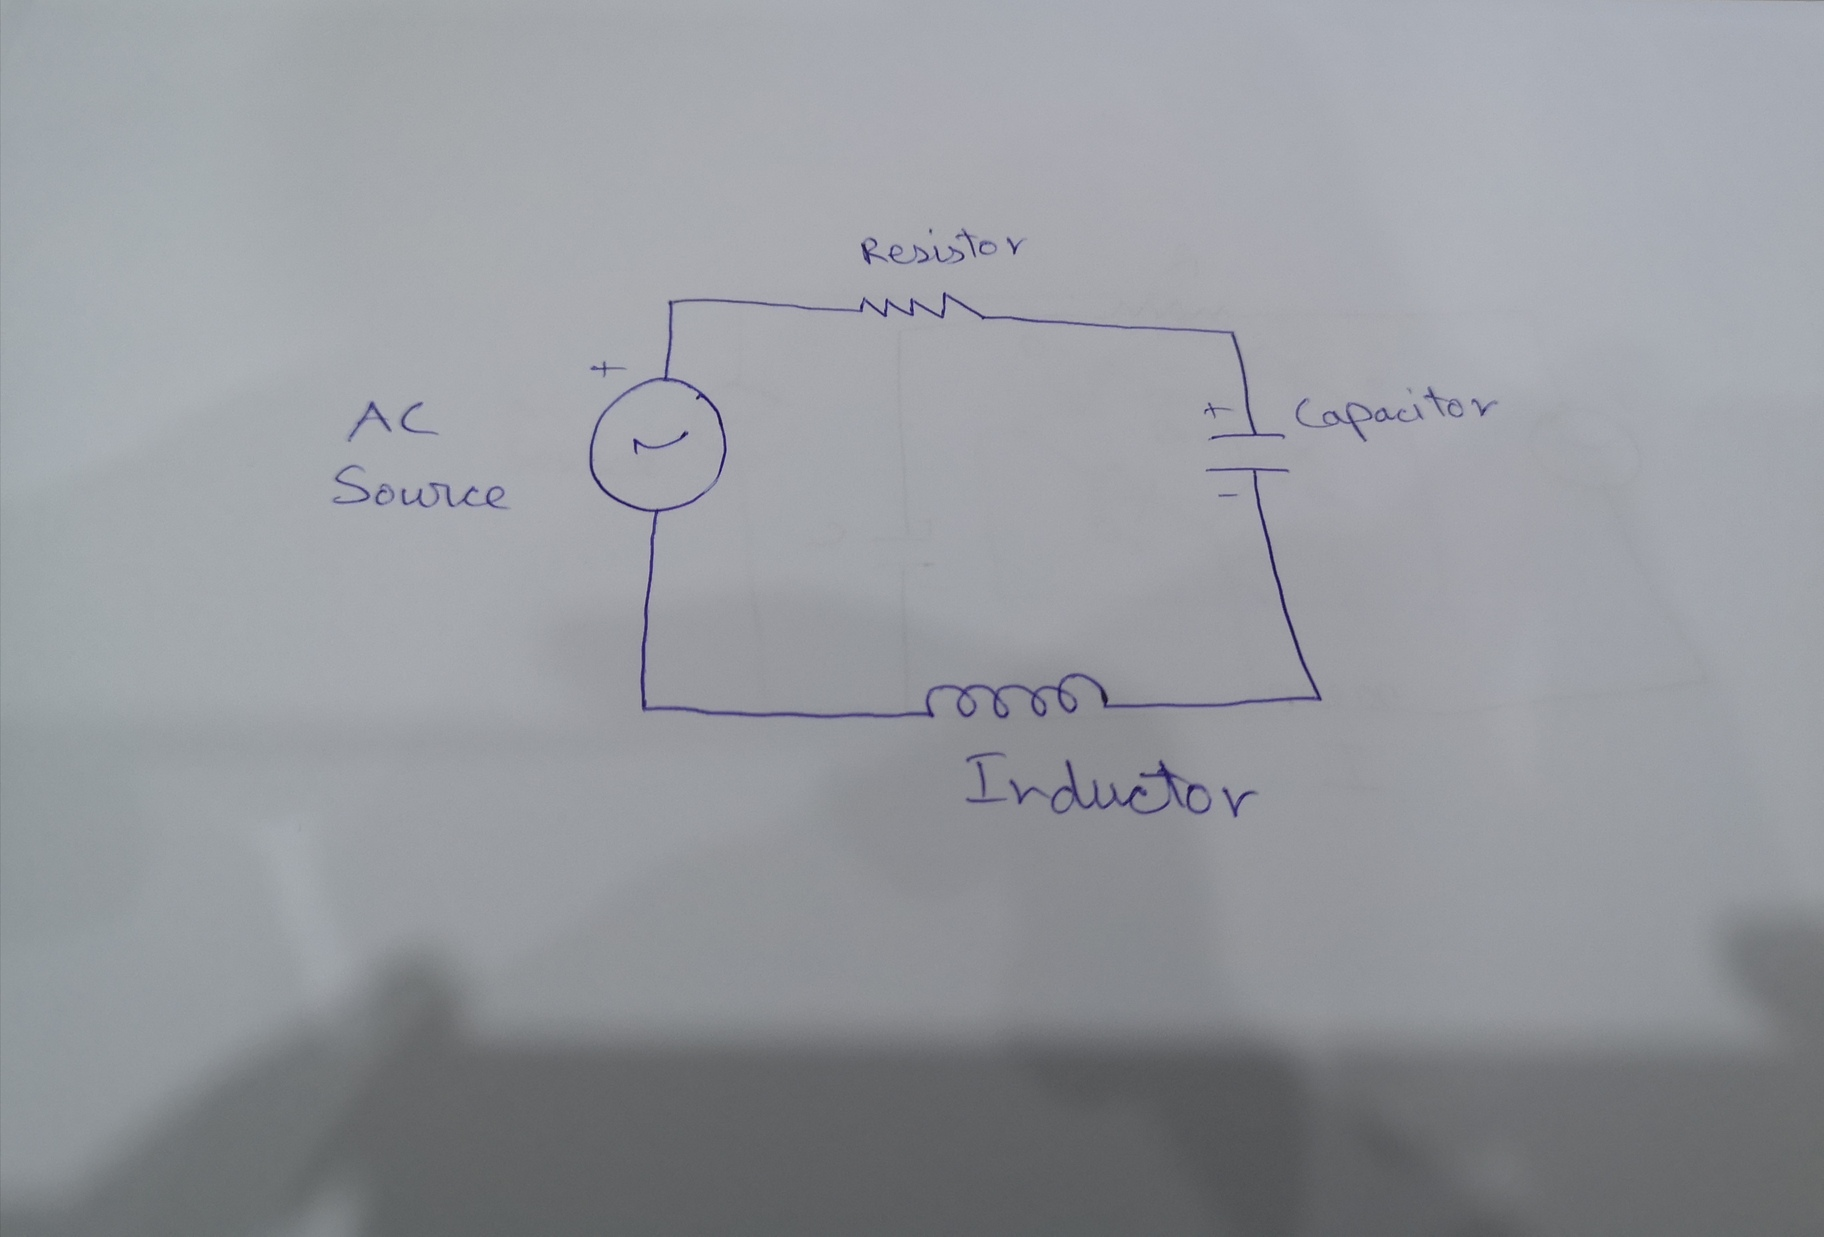capacitor.polarized: (1194, 398, 1294, 509)
inductor: (920, 668, 1113, 730)
junction: (628, 688, 661, 723), (1303, 683, 1328, 710), (660, 291, 683, 315), (1219, 323, 1243, 347)
resistor: (846, 283, 987, 330)
text: (962, 741, 1263, 821), (1290, 380, 1505, 446), (327, 458, 516, 518), (853, 222, 1029, 272), (337, 395, 446, 447)
voltage.dc: (583, 355, 741, 520)
